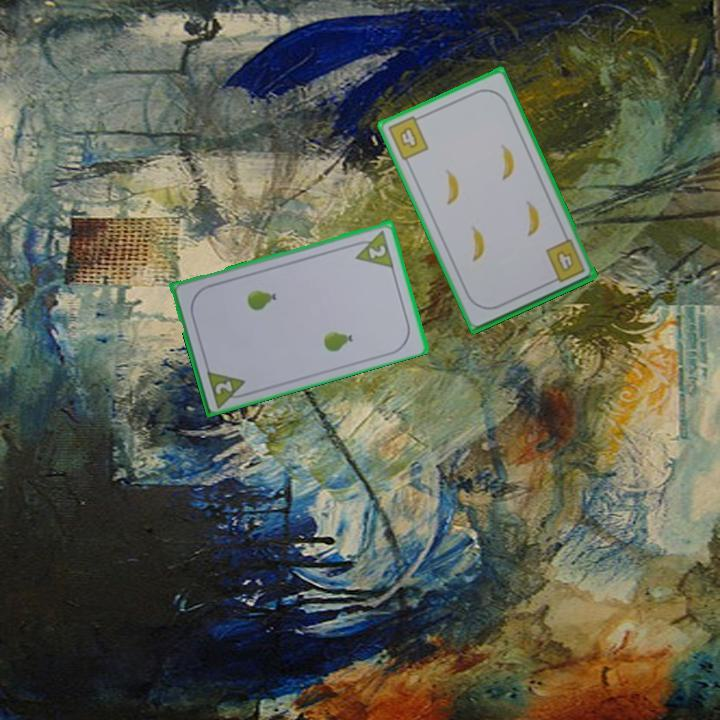2p: (348, 226, 397, 270), (203, 365, 252, 409)
4b: (384, 111, 431, 163), (542, 236, 588, 286)
